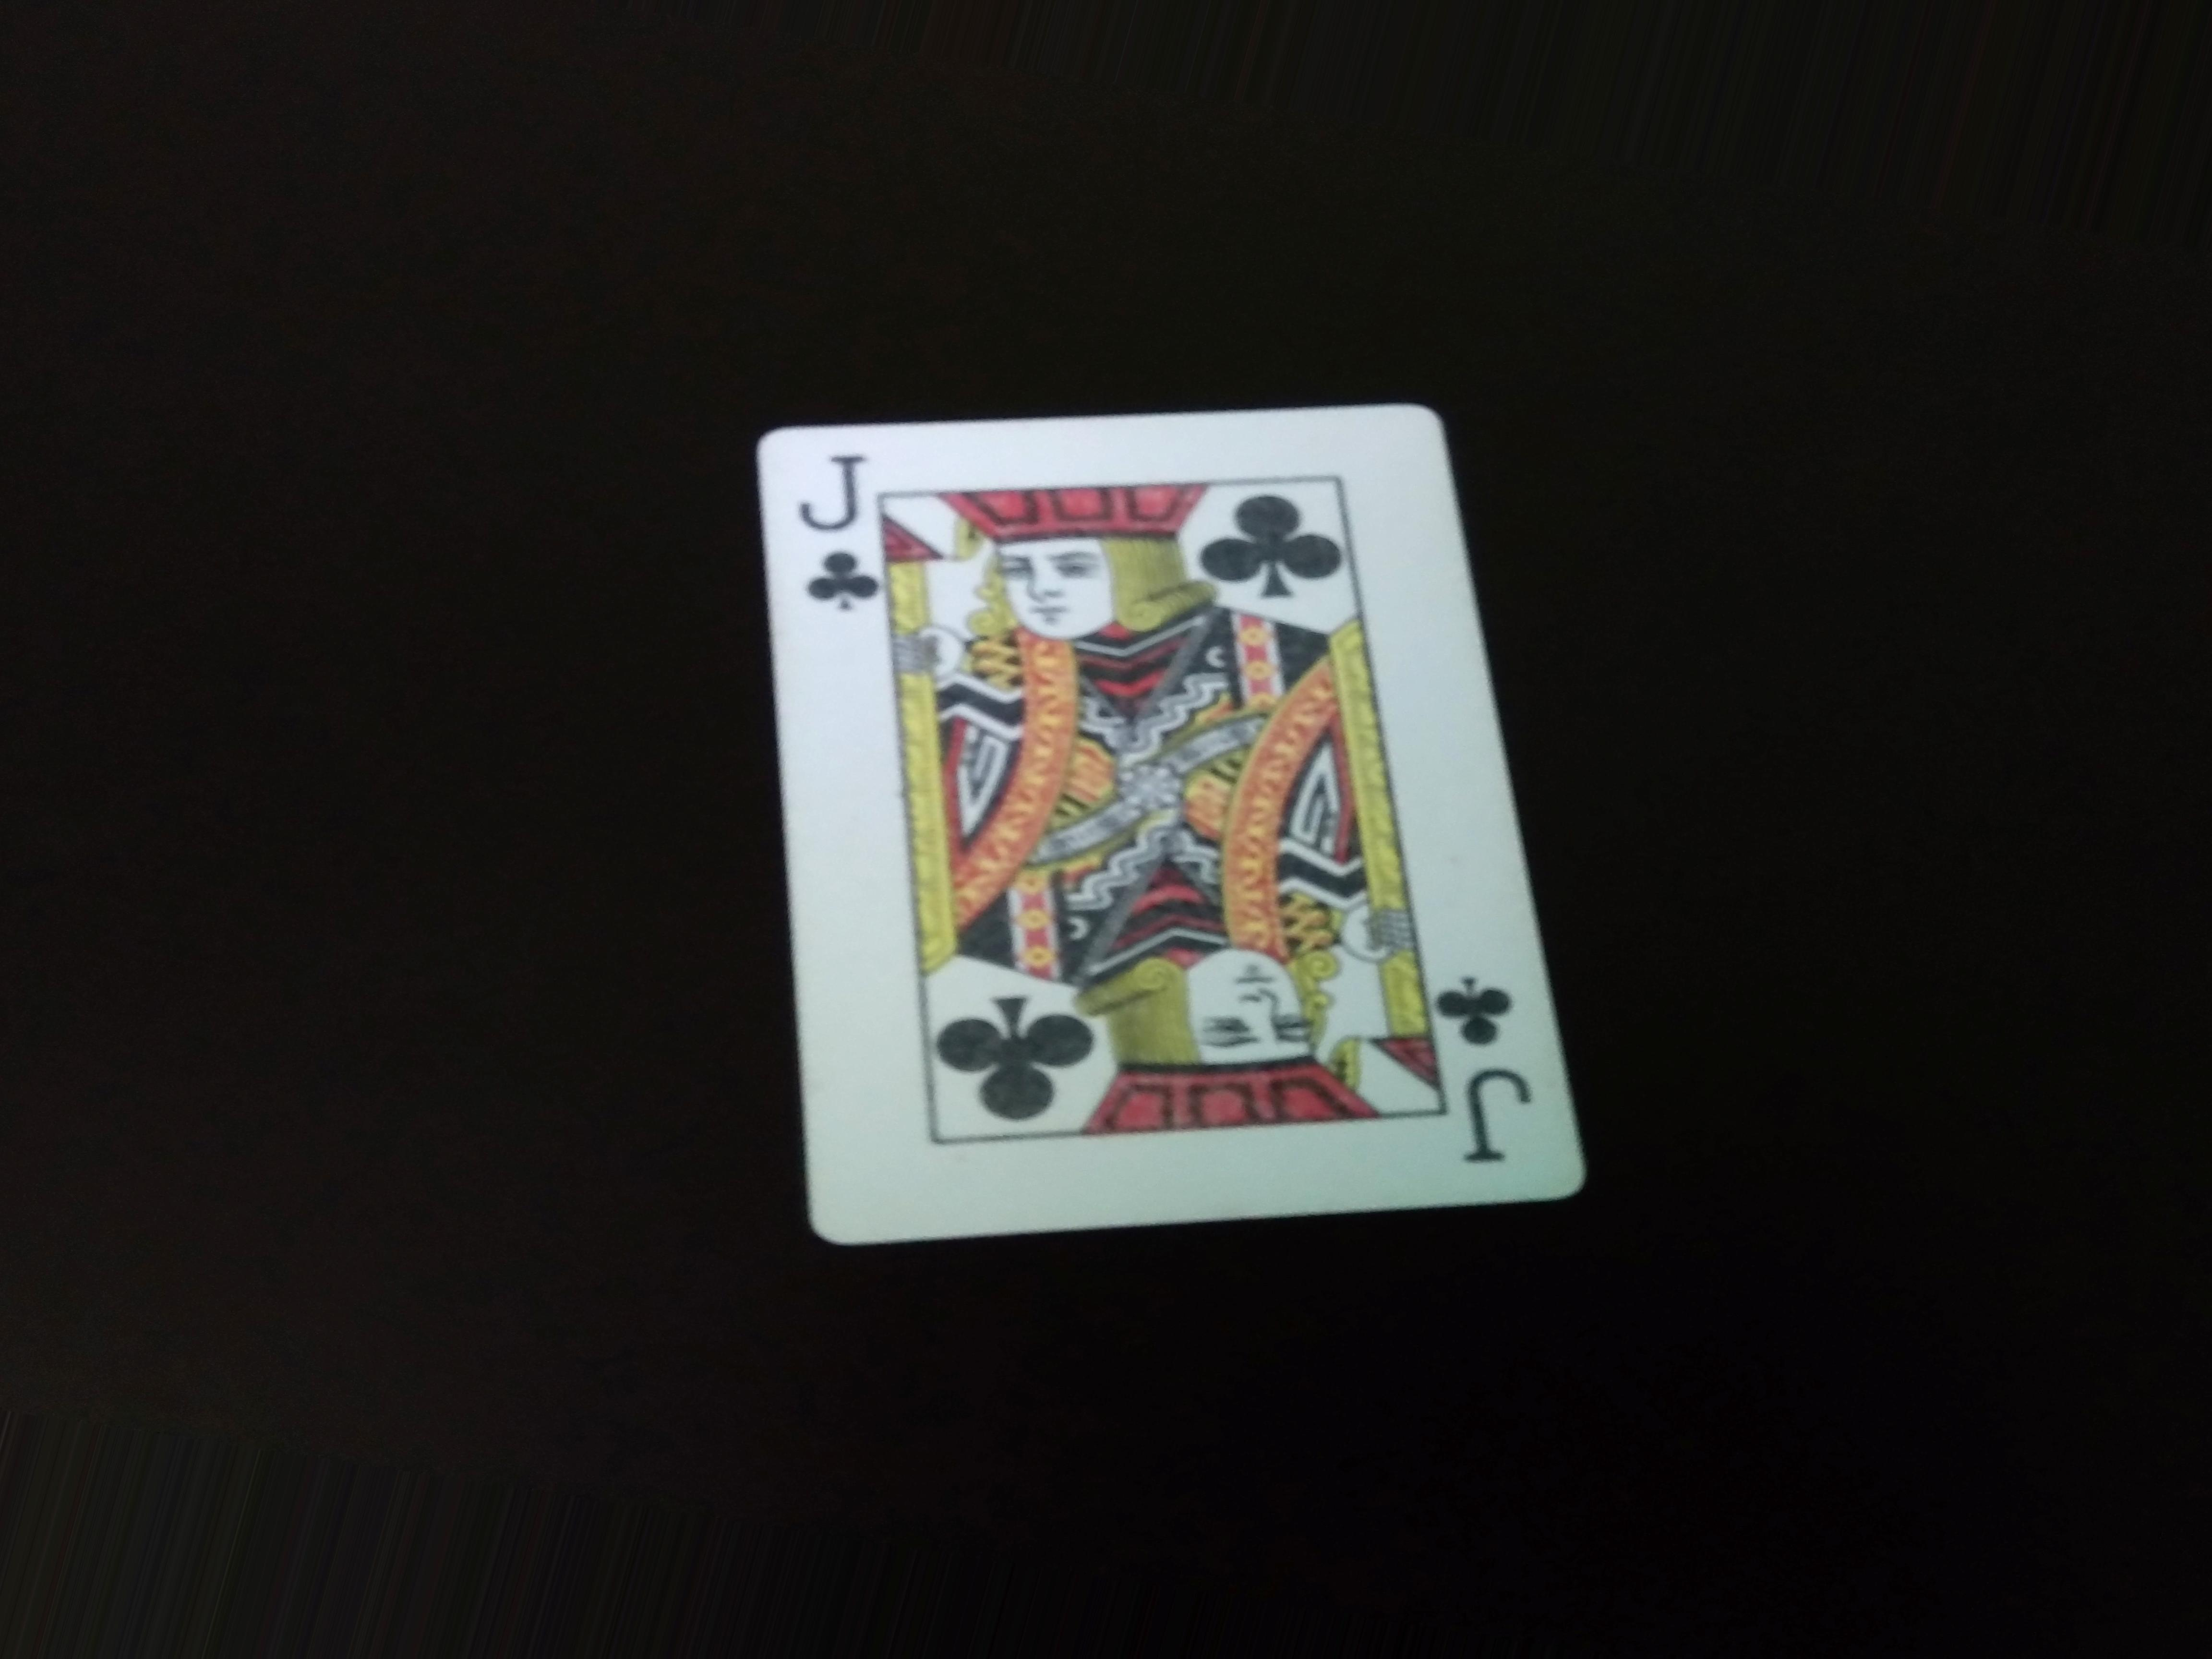JC: (796, 425, 878, 666)
